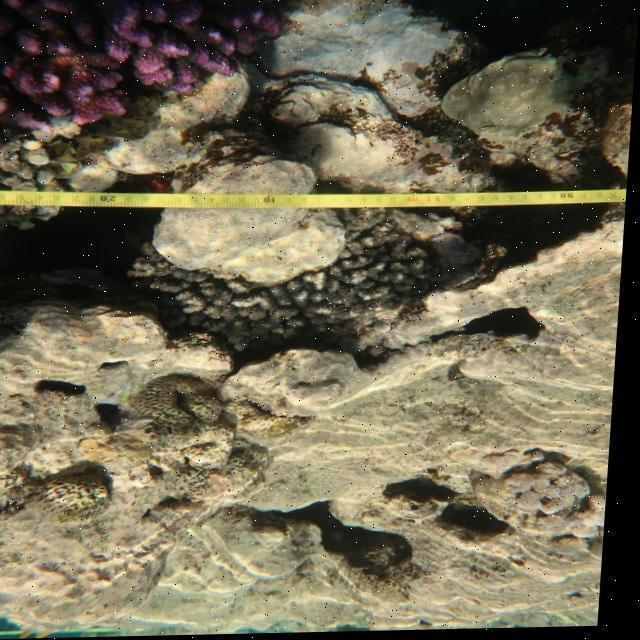Healthy Coral: (0, 0, 293, 126)
